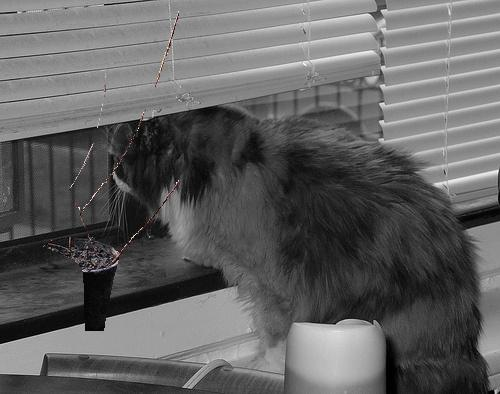tampered: (44, 12, 179, 331)
